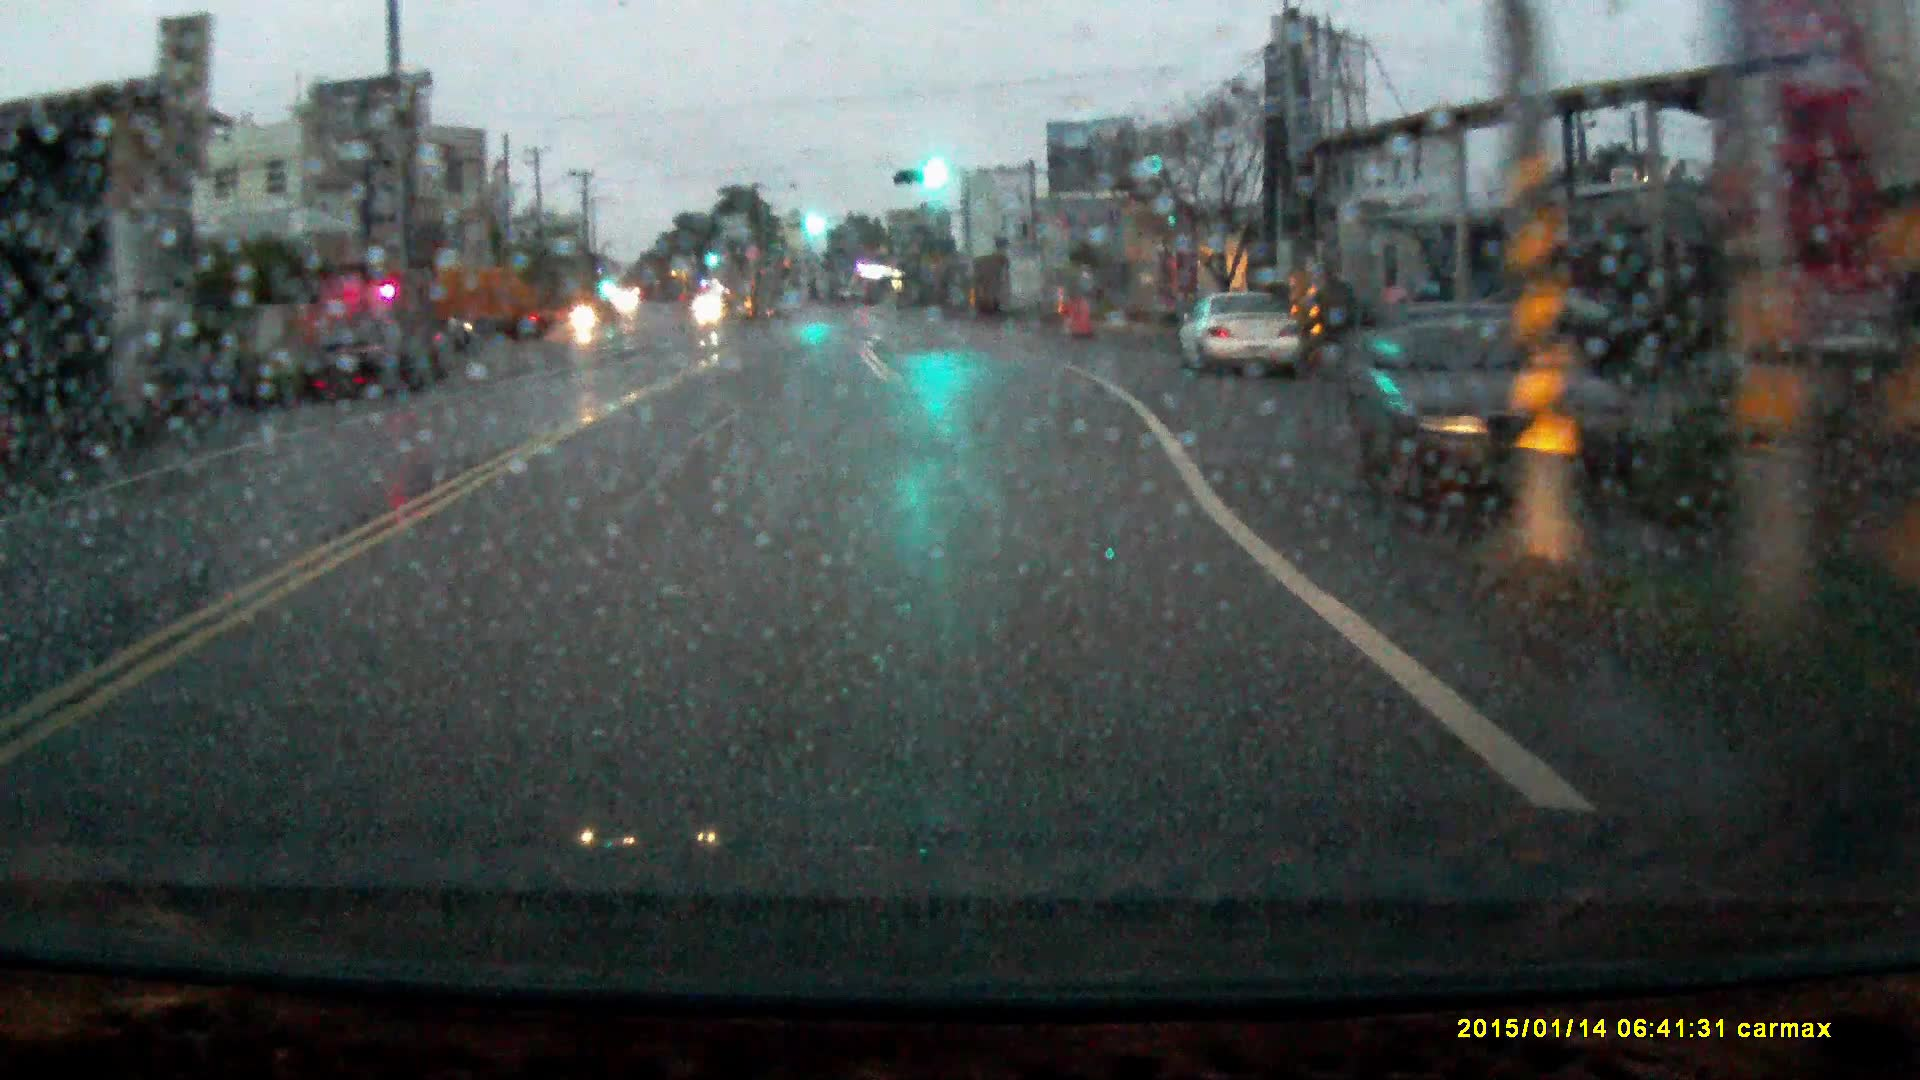rider: (566, 294, 601, 353)
vehicle: (1341, 319, 1638, 511), (1173, 288, 1301, 376), (427, 265, 545, 345), (302, 319, 429, 393), (694, 296, 723, 319)
